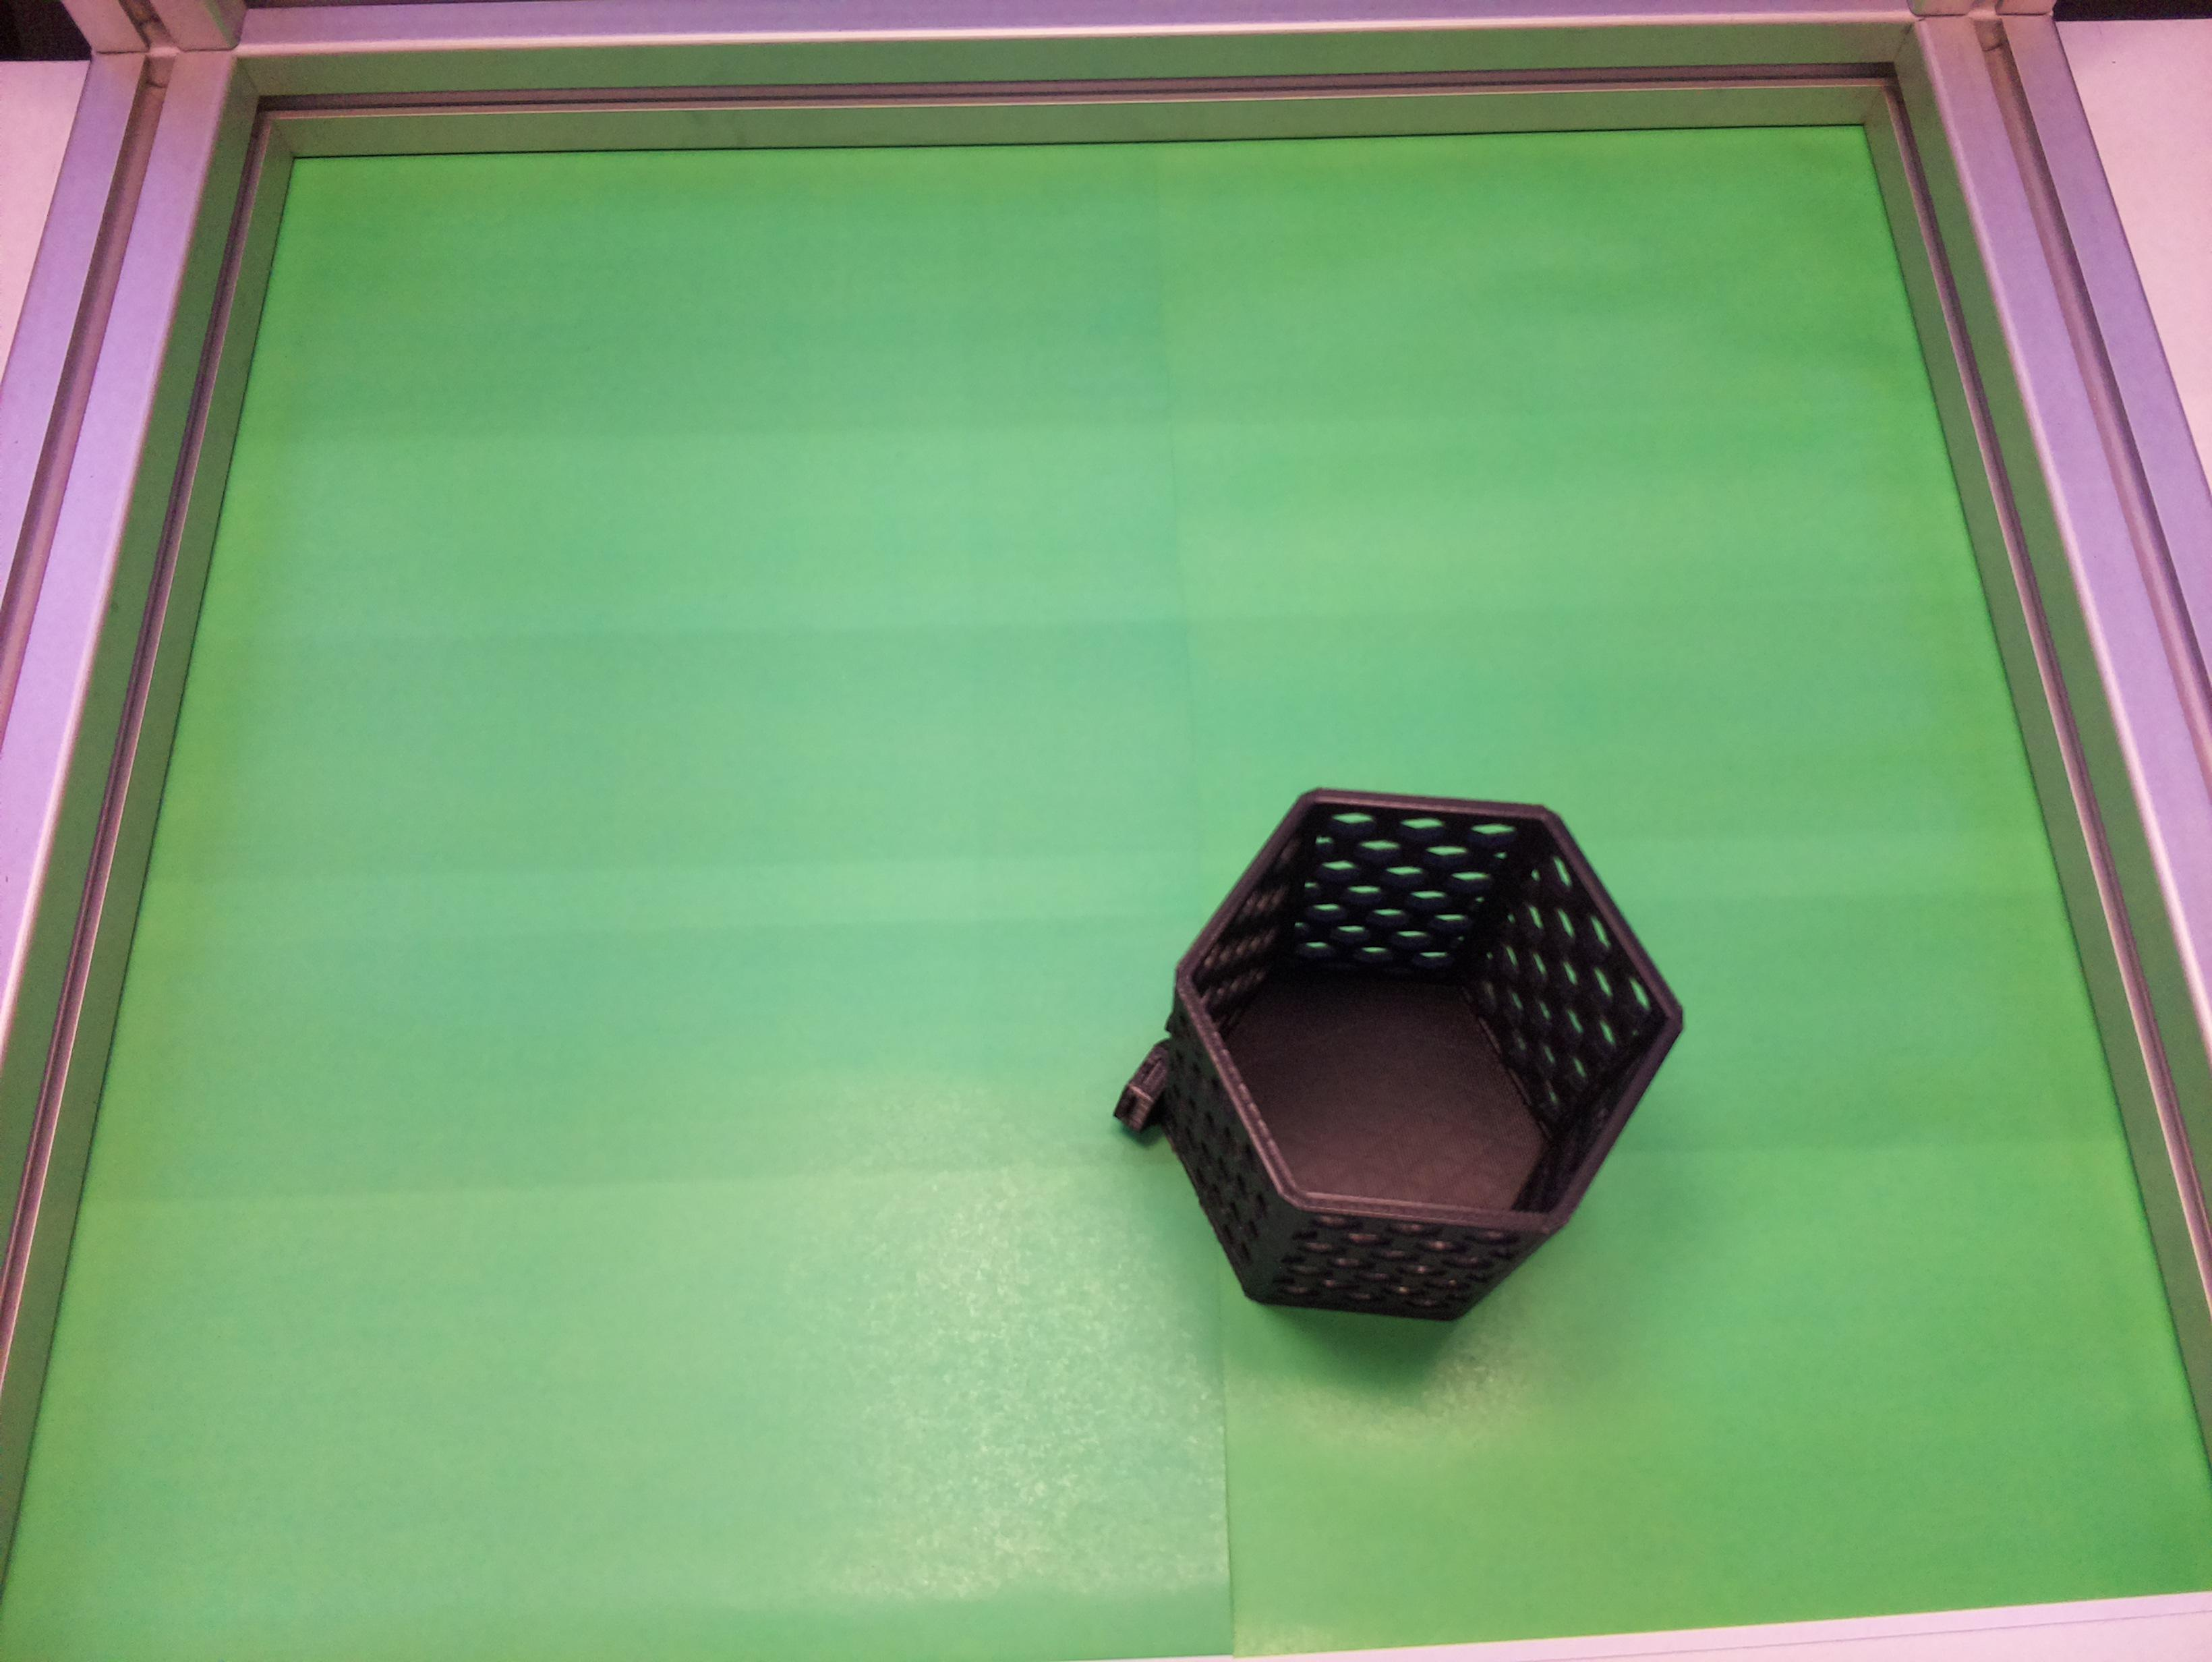cup_holder: (1044, 686, 1756, 1423)
